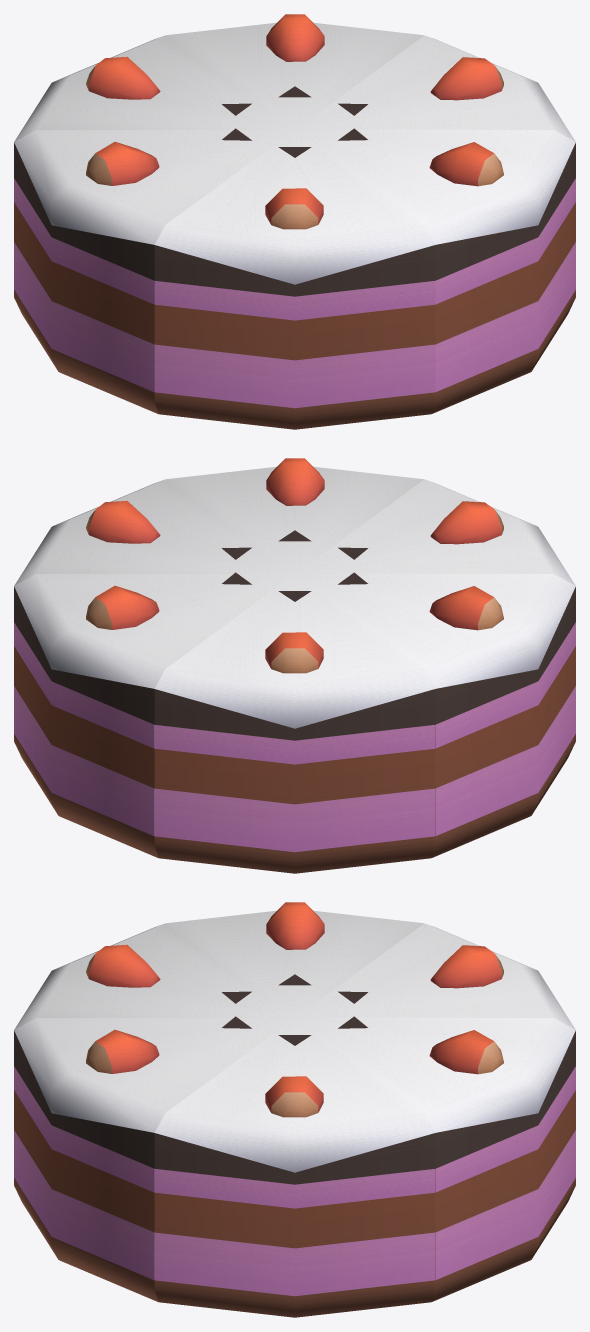
Rendered from cake.glb.
3 views of the same model, one above another, from view 1: azimuth 30°, elevation 25°; view 2: azimuth 150°, elevation 25°; view 3: azimuth 270°, elevation 25° (orthographic).
Visible parts, largest first — view 1: slice (×6); view 2: slice (×6); view 3: slice (×6).
Boxes of the visible parts, left/top/right/bottom form: slice (×6): left=14, top=14, right=575, bottom=429; slice (×6): left=14, top=458, right=575, bottom=873; slice (×6): left=14, top=902, right=575, bottom=1317.
Bounding box in the file's own units: 0.6392 × 0.2731 × 0.6392.
Materials: 1 (1 with a texture image).
